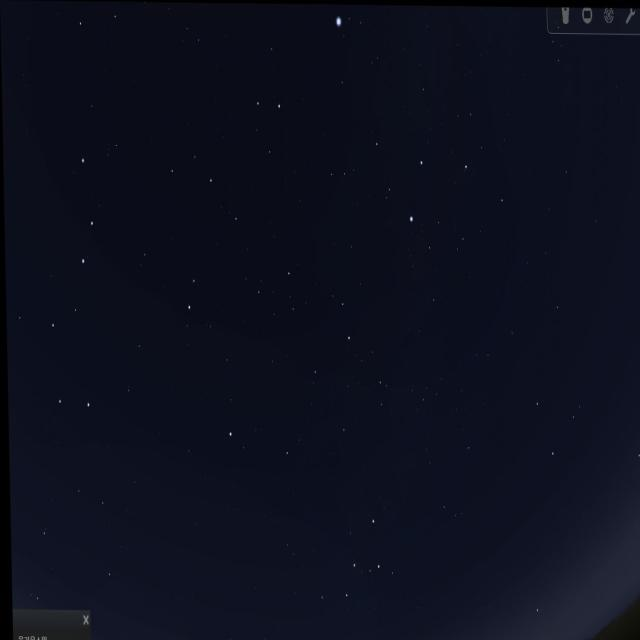cassiopeia: (289, 474, 402, 620)
cygnus: (367, 24, 469, 235)
ursa_major: (22, 148, 115, 432)
